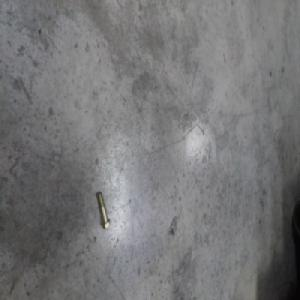Bolt: (96, 190, 111, 231)
